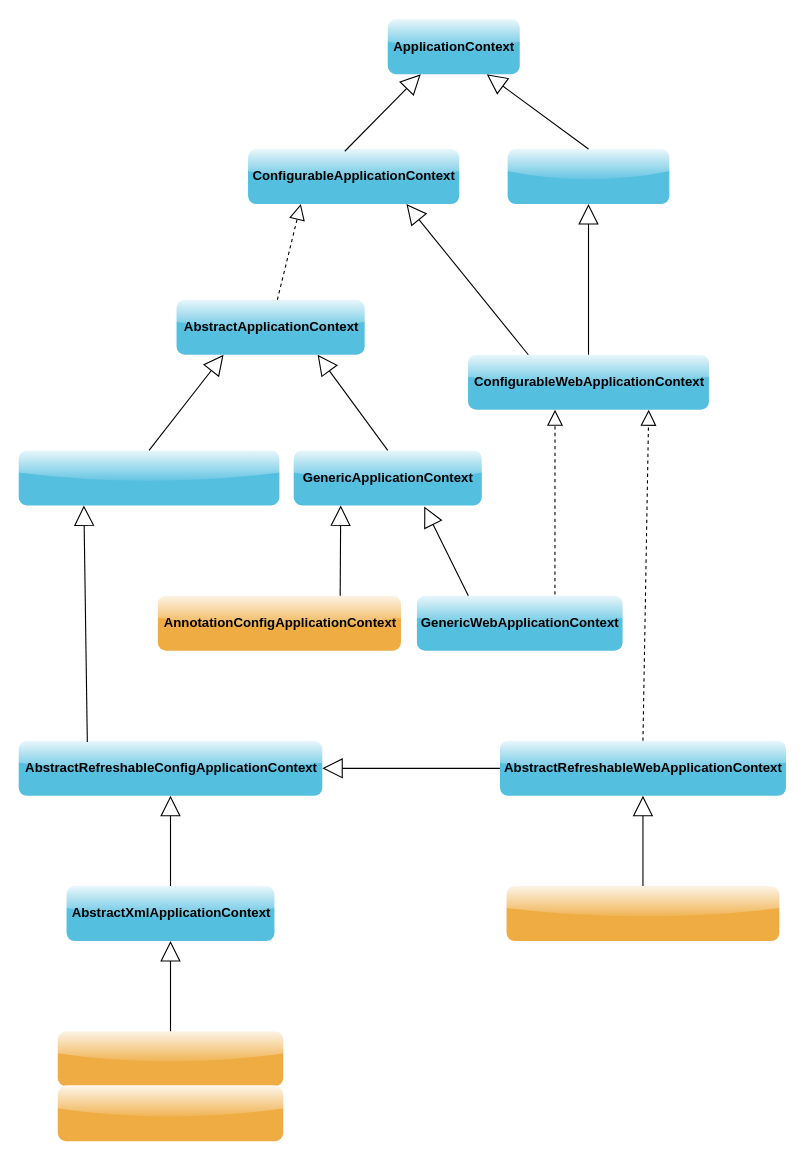
Some shapes in this 805 by 1159 pixel diagram are drawn without their labels. Here are the shapes that lost their labels. From the top down, the centre of each, then its label:
point 588,176: WebApplicationContext
point 148,477: AbstractRefreshableApplicationContext
point 642,913: AnnotationConfigWebApplicationContext
point 170,1058: FileSystemXmlApplicationContext
point 170,1113: ClassPathXmlApplicationContext
